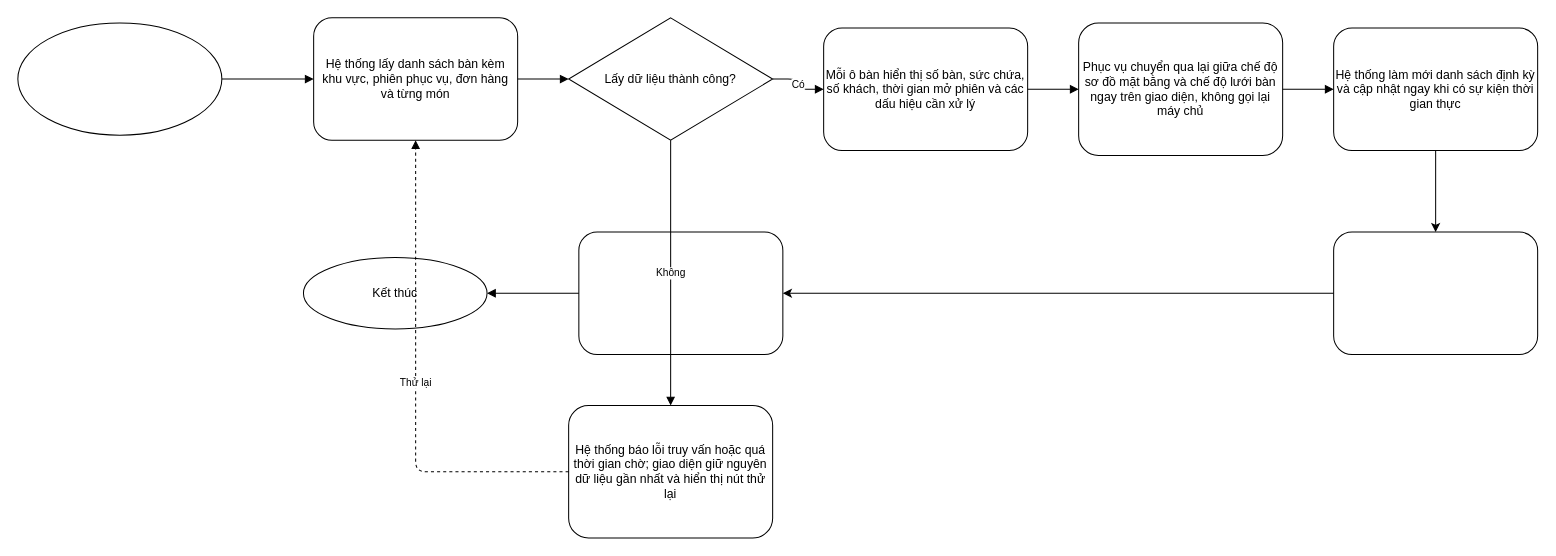
Image size: 1556x556. Some labels were removed from this diagram. The box of each missing label's shape, as (x1, y1, x2, y2) in pixels:
Danh sách món theo trạng thái và các nút thao tác của phục vụ: (578, 231, 783, 354)
Nhân viên phục vụ đăng nhập và mở màn hình phục vụ: (17, 22, 222, 135)
Phục vụ chọn một bàn: (1333, 231, 1538, 354)
